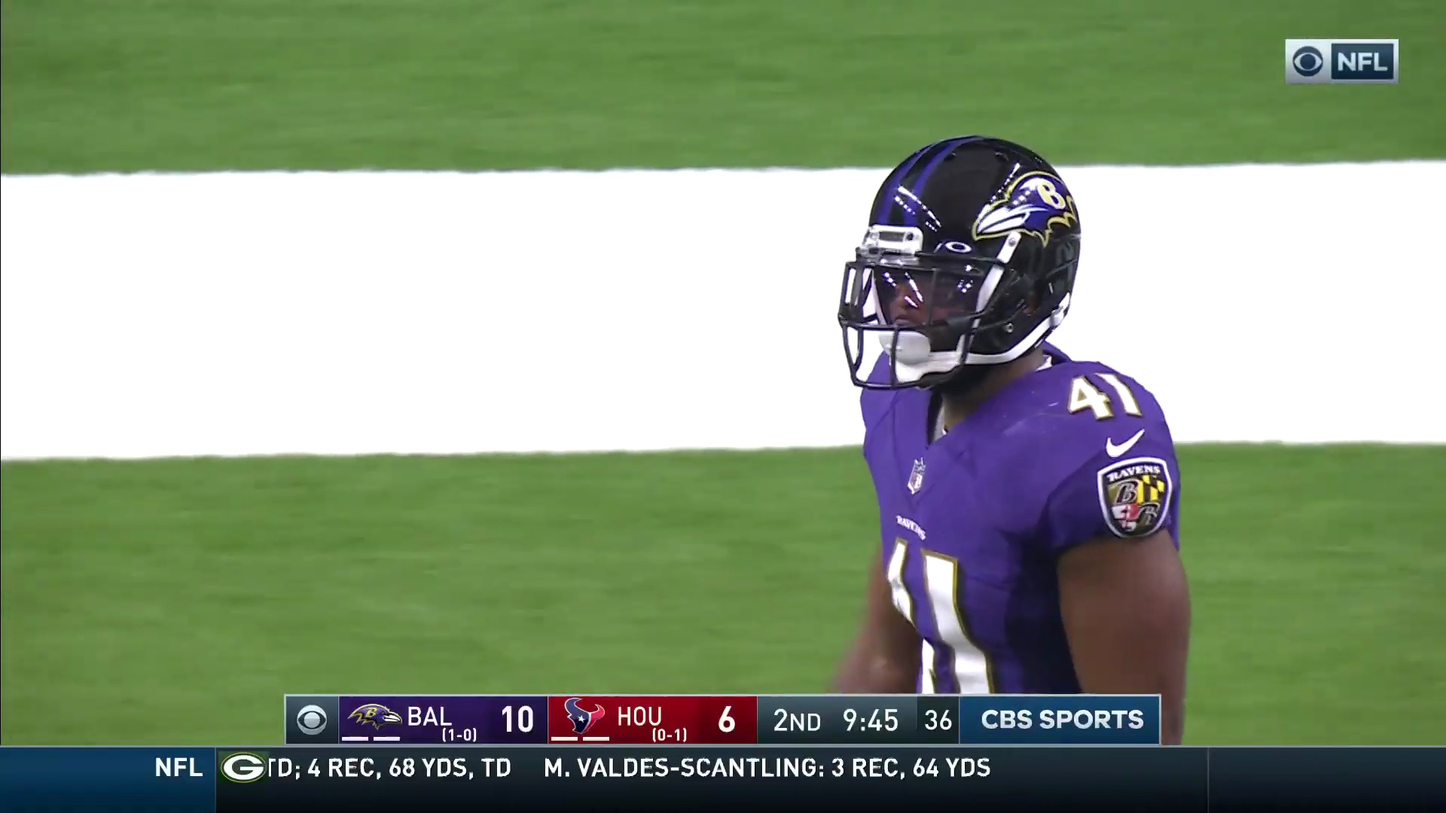Player: (775, 156, 1174, 645)
